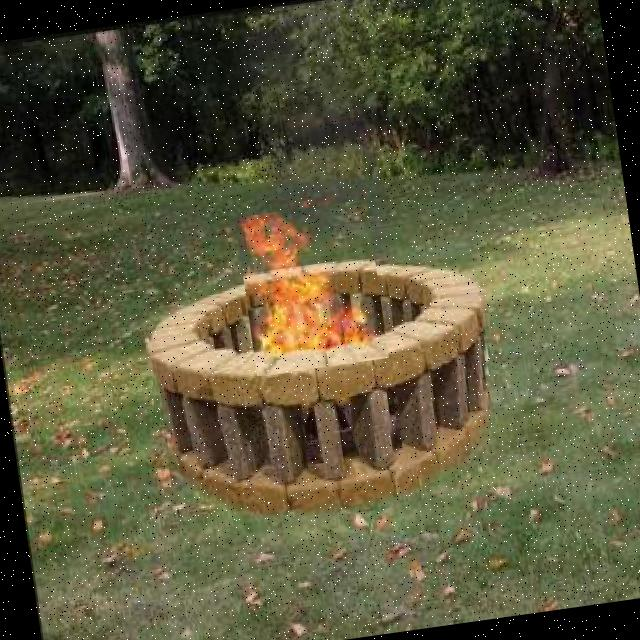fire: (235, 200, 389, 376)
